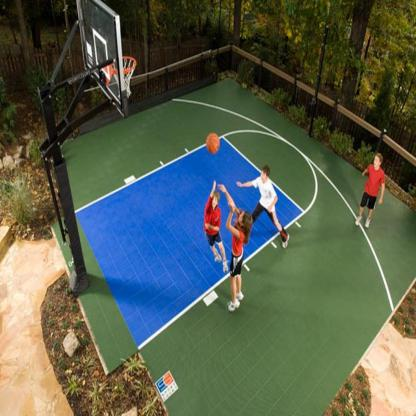face: (375, 157, 381, 168), (239, 213, 245, 223), (212, 197, 218, 207), (262, 172, 267, 181)
